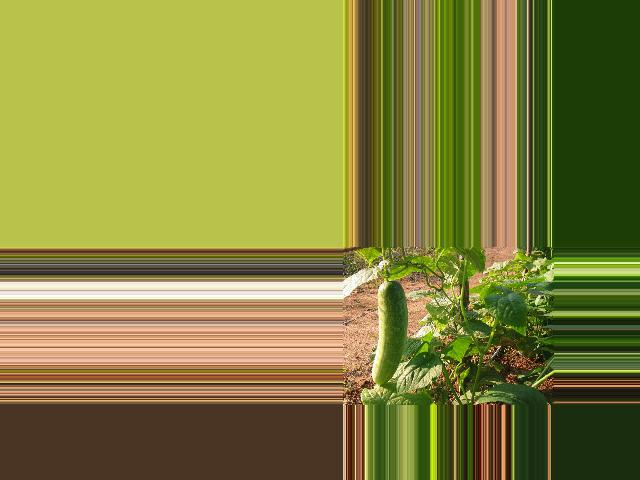cucumber: (371, 281, 407, 384)
